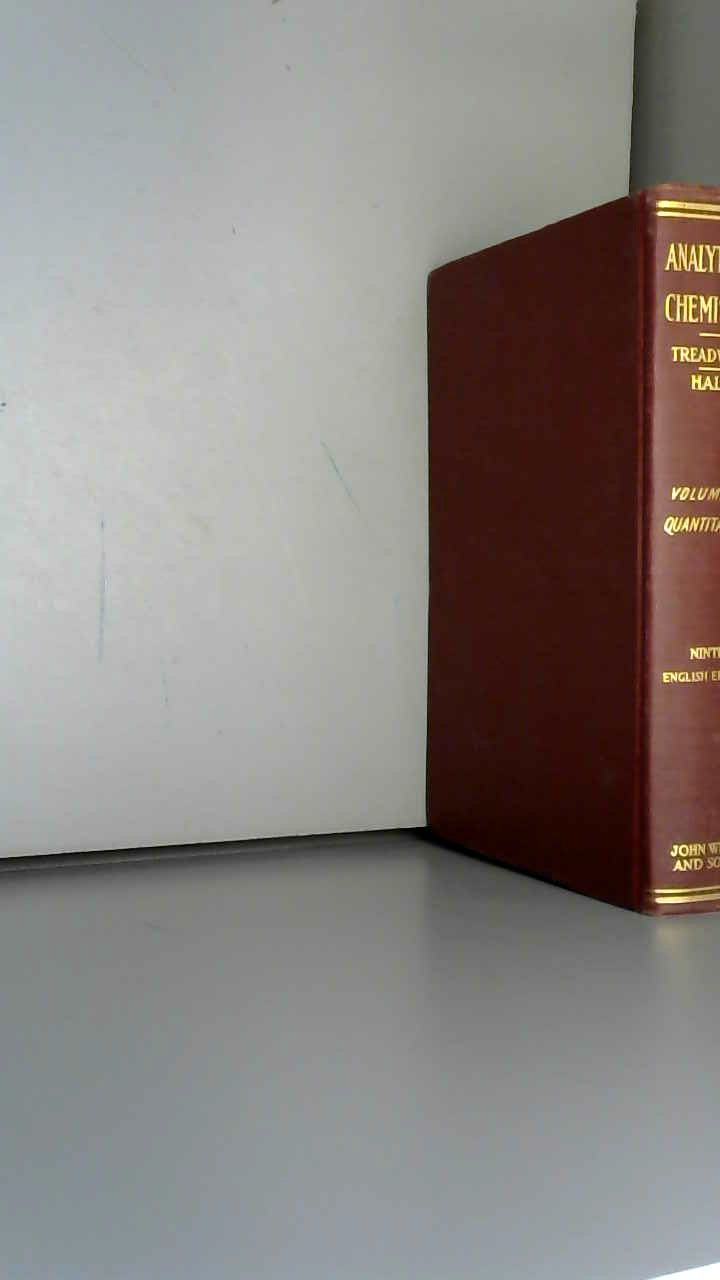book: (400, 200, 720, 932)
